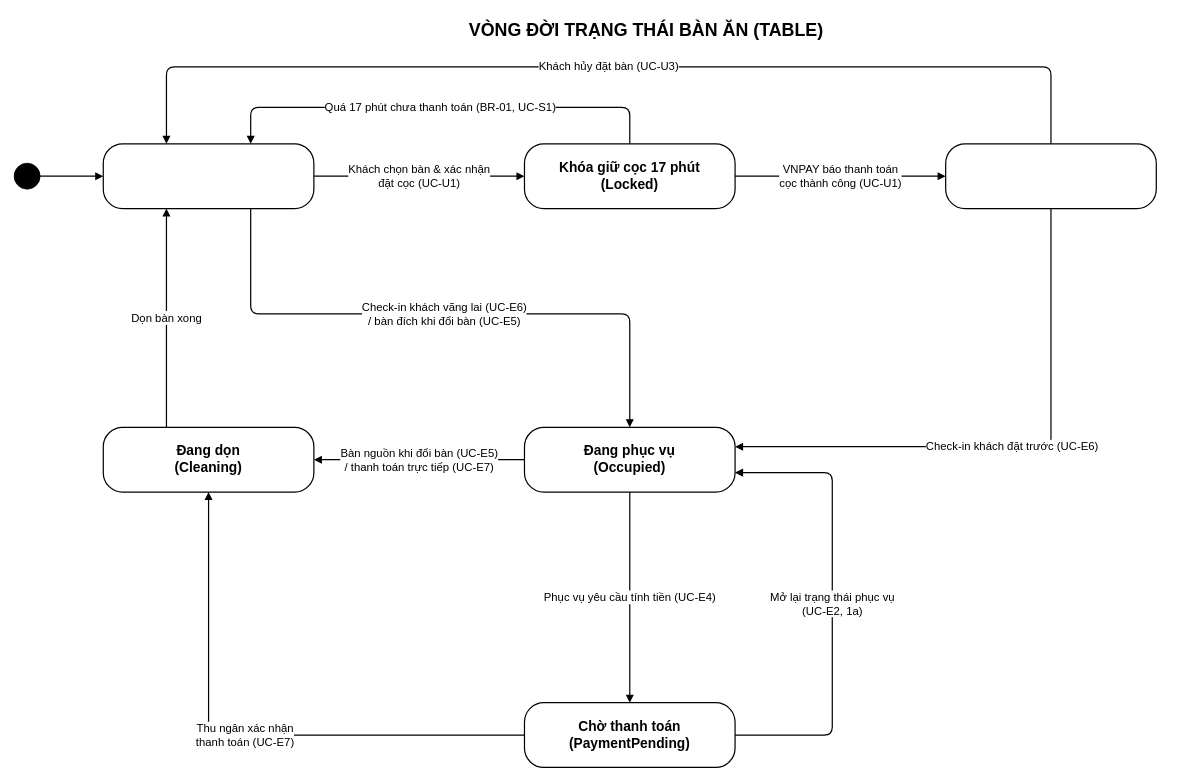
This 1203x782 diagram has some shape labels left out. Each missing label, with the centre of its shape:
"Trống (Available)" belongs at [208,176].
"Đã đặt (Reserved)" belongs at [1051,176].
